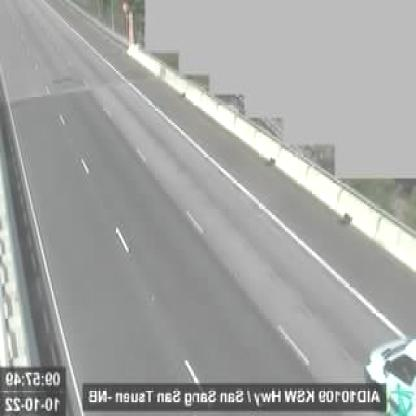Car: (360, 335, 416, 413)
